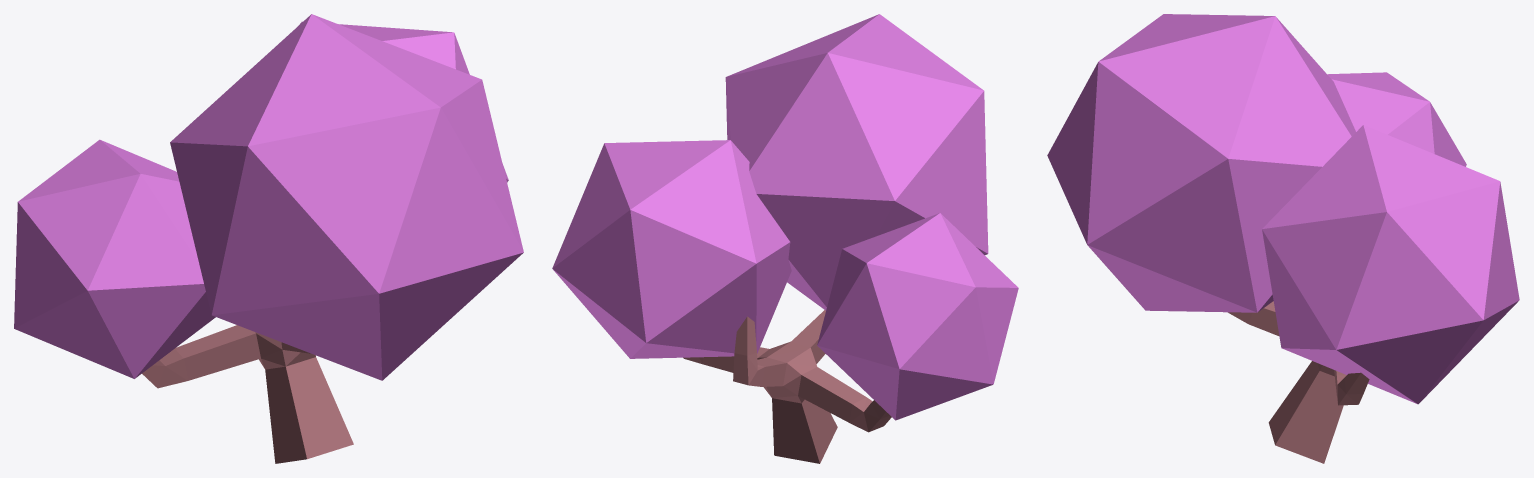
The model's file is bush1.fbx.
3 views of the same model, side by side, from view 1: azimuth 30°, elevation 25°; view 2: azimuth 150°, elevation 25°; view 3: azimuth 270°, elevation 25° (orthographic). The views are drawn at different scales.
Visible parts, largest first — view 1: Icosphere.014, Cube.006; view 2: Icosphere.014, Cube.006; view 3: Icosphere.014, Cube.006.
Boxes of the visible parts, x1=… form: Icosphere.014: x1=14, y1=14, x2=523, y2=380; Cube.006: x1=142, y1=325, x2=353, y2=463; Icosphere.014: x1=552, y1=14, x2=1018, y2=420; Cube.006: x1=683, y1=310, x2=891, y2=463; Icosphere.014: x1=1047, y1=14, x2=1519, y2=404; Cube.006: x1=1228, y1=301, x2=1369, y2=463.
Bounding box in the file's own units: 264 × 246 × 244.
